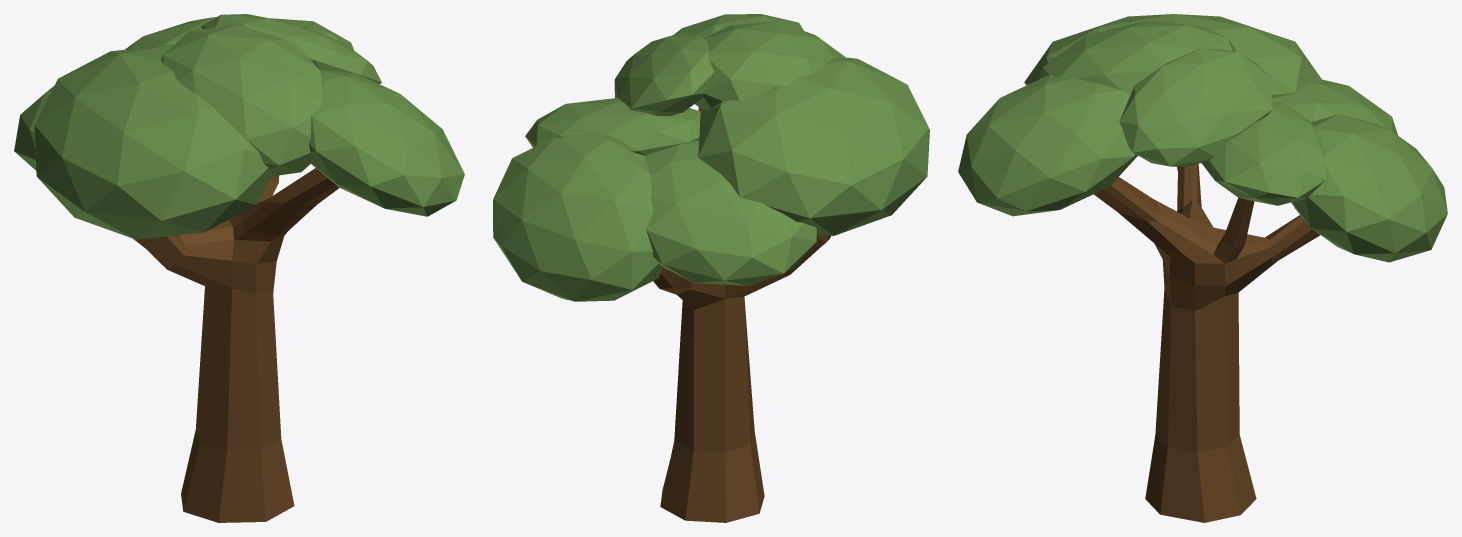
Rendered from TreeBase4.fbx.
3 views of the same model, side by side, from view 1: azimuth 30°, elevation 25°; view 2: azimuth 150°, elevation 25°; view 3: azimuth 270°, elevation 25° (orthographic). The views are drawn at different scales.
Visible parts, largest first — view 1: Icosphere.001, Icosphere.002, treeBase, Icosphere; view 2: Icosphere, Icosphere.002, treeBase, Icosphere.001; view 3: Icosphere.001, treeBase, Icosphere, Icosphere.002.
Boxes of the visible parts, box(x1,y1,x2,y2) form: Icosphere.001: box(161, 14, 464, 216); Icosphere.002: box(34, 44, 271, 239); treeBase: box(133, 168, 339, 522); Icosphere: box(14, 17, 354, 170); Icosphere: box(493, 98, 816, 301); Icosphere.002: box(698, 57, 929, 235); treeBase: box(653, 107, 830, 522); Icosphere.001: box(614, 14, 845, 115); Icosphere.001: box(958, 20, 1272, 216); treeBase: box(1094, 164, 1320, 522); Icosphere: box(1201, 79, 1447, 262); Icosphere.002: box(1024, 14, 1323, 98).
Bounding box in the file's own units: 355 × 479 × 465.
